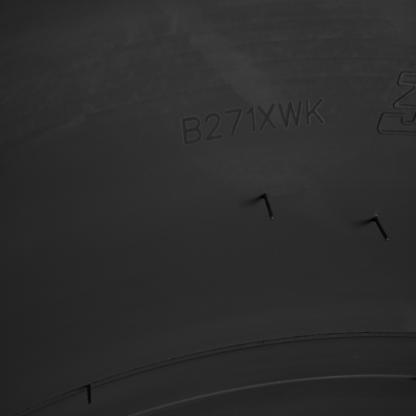ocr: (180, 96, 328, 147)
